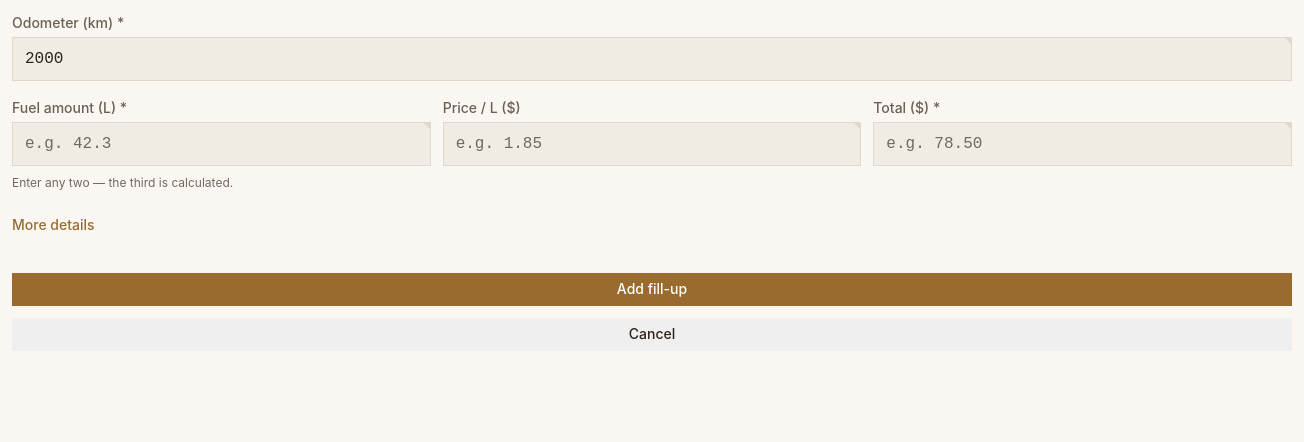
Test: QuickFillForm › offers the smart missed-fill-up action for an unusually large gap
Replace the text in the field labelled "Odometer (km) *" with "3000" at (652, 59), box left=12, top=37, right=1292, bottom=81
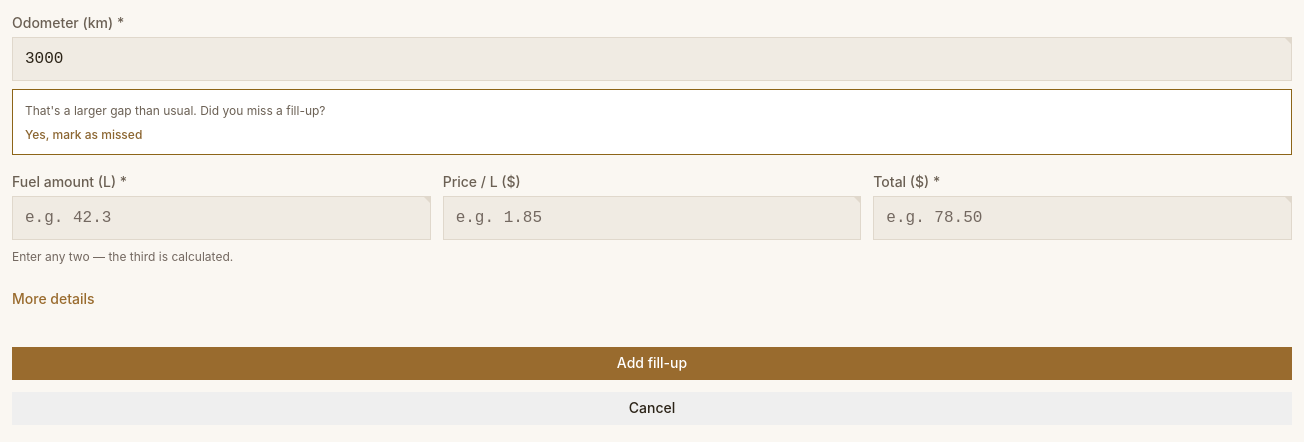
expect the text "That's a larger gap than usual. Did you miss a fill-up?" is shown: met, box left=25, top=103, right=326, bottom=118
Click the button "Yes, mark as missed".
click(84, 135)  # box left=25, top=128, right=142, bottom=142
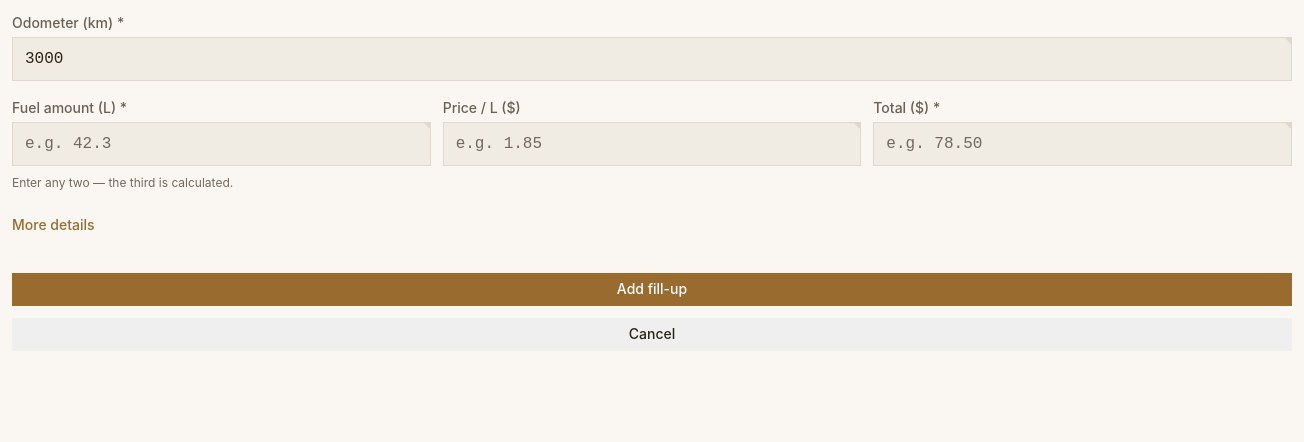
expect the text "That's a larger gap than usual. Did you miss a fill-up?" is gone: met
